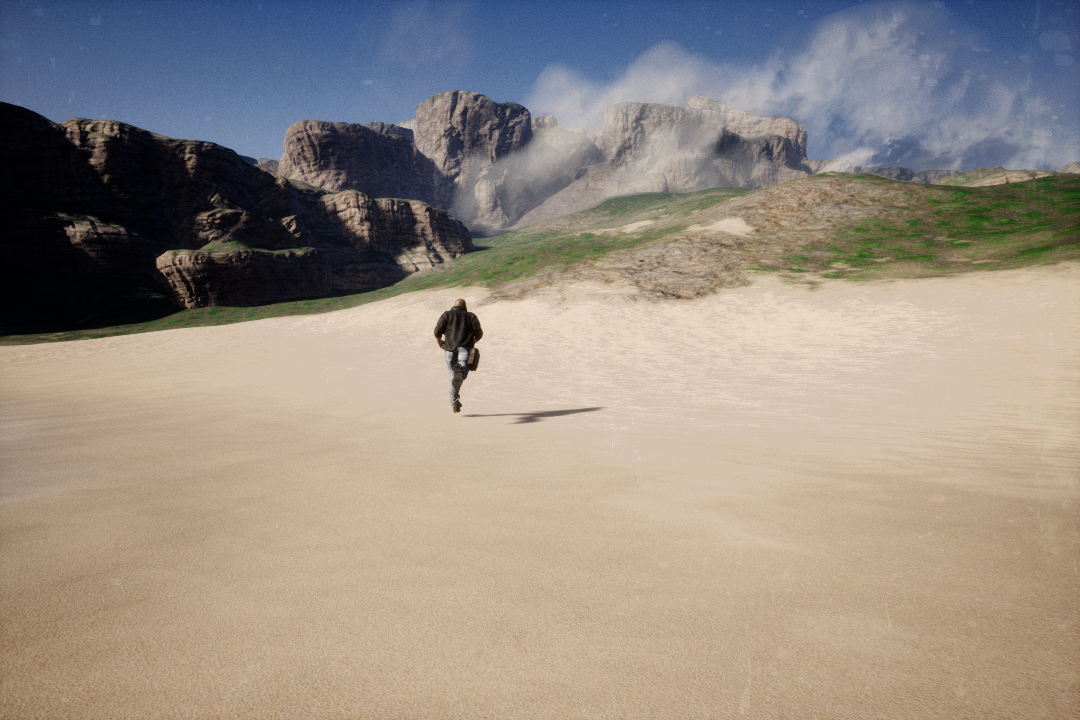person: (429, 288, 491, 427)
